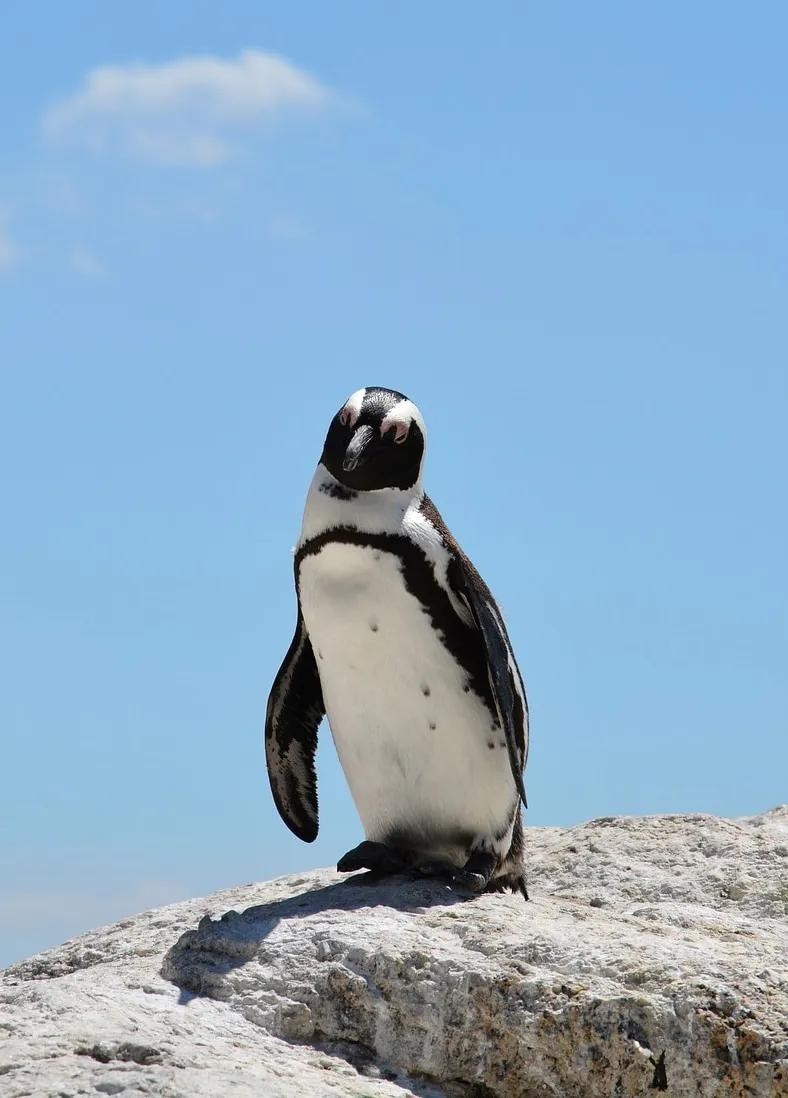Penguin: (266, 386, 527, 897)
